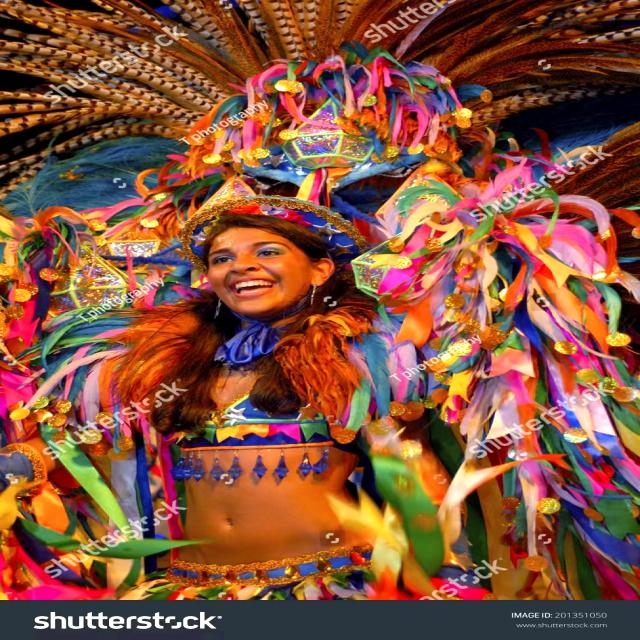Reeves-s Pheasant: (0, 0, 640, 201)
